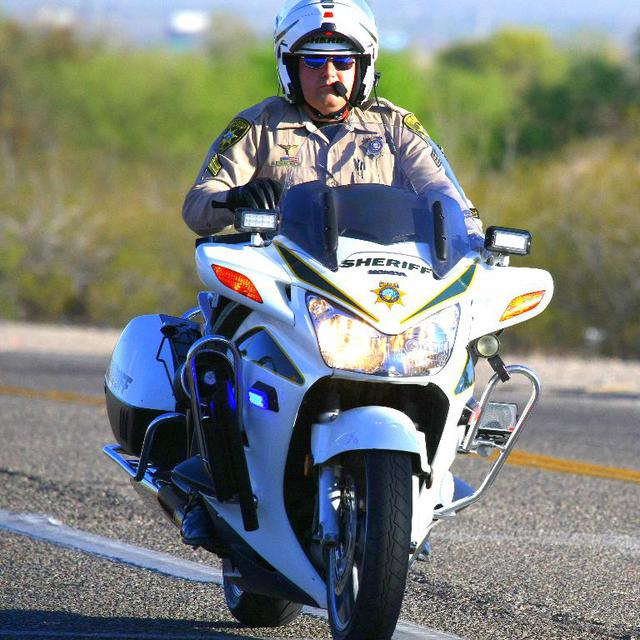helmet: (270, 4, 389, 105)
